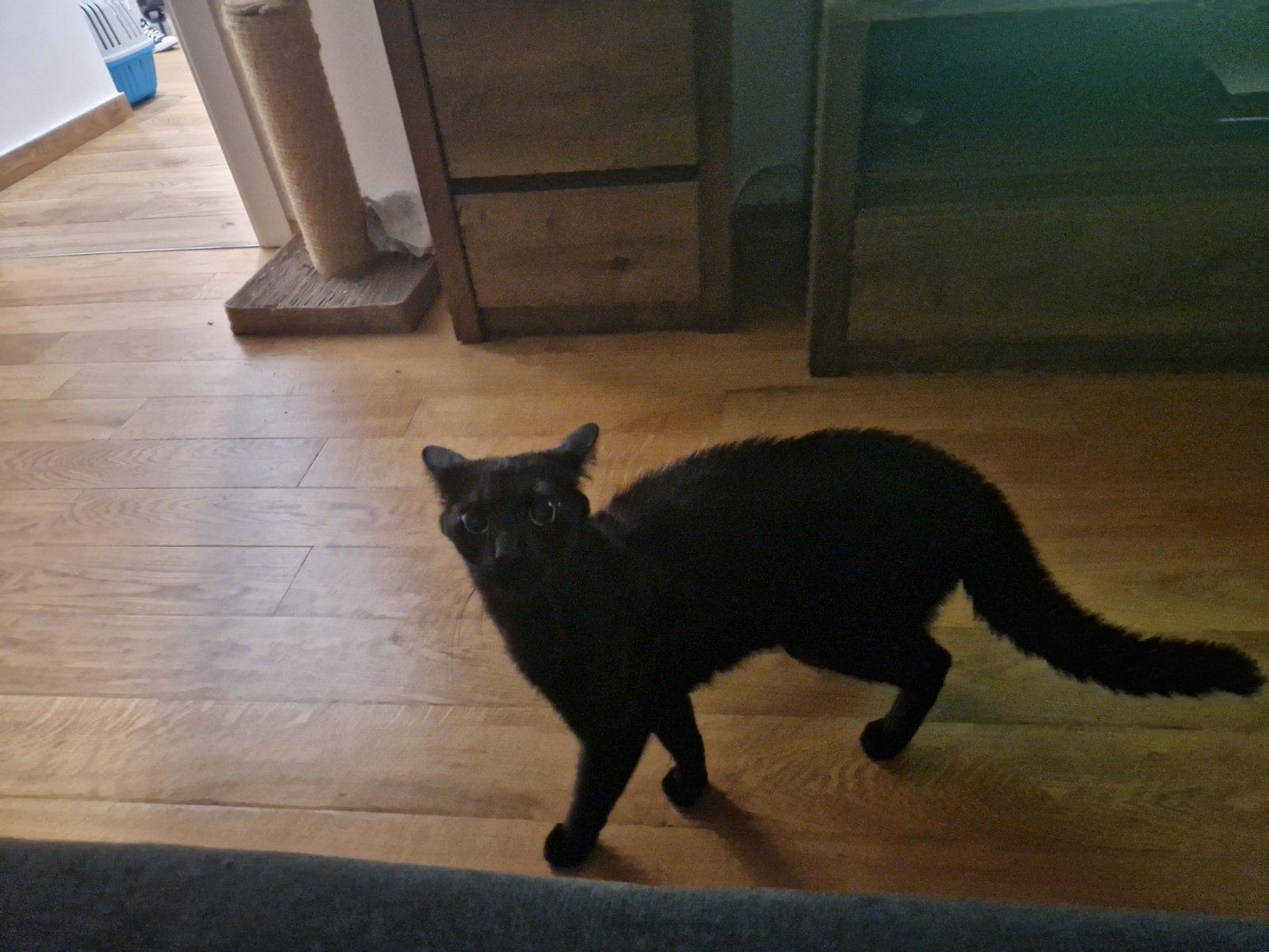macka: (424, 427, 1262, 884)
